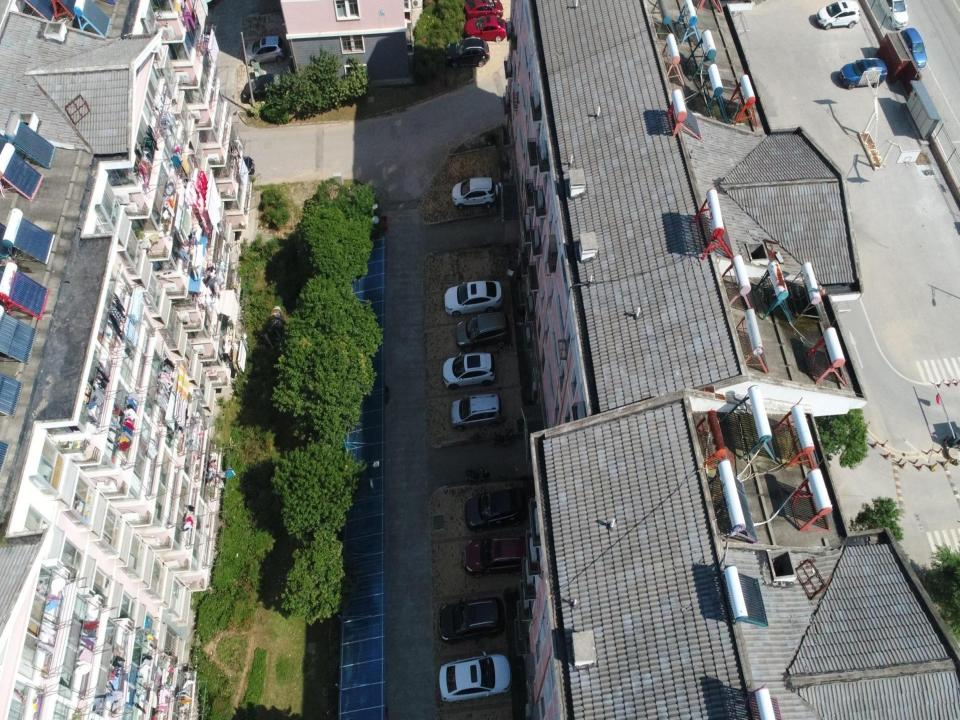car: (439, 652, 512, 704), (465, 483, 528, 532), (439, 598, 505, 644), (464, 537, 528, 579), (455, 311, 509, 352), (449, 393, 504, 431), (444, 280, 502, 316), (442, 352, 496, 390), (452, 173, 499, 209), (445, 38, 490, 68), (245, 35, 286, 66), (243, 73, 288, 101), (465, 15, 507, 42), (464, 0, 503, 18)
